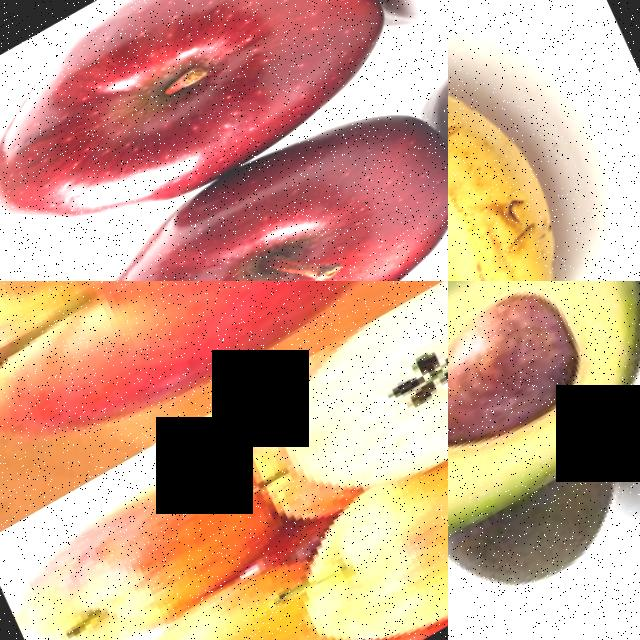apple: (0, 0, 448, 281), (0, 281, 448, 513), (0, 53, 448, 281), (0, 440, 291, 640), (238, 281, 448, 557), (265, 393, 448, 640), (79, 557, 342, 640), (207, 410, 328, 572)
avocado: (448, 281, 640, 640), (448, 443, 640, 640)
banana: (448, 0, 640, 281)
